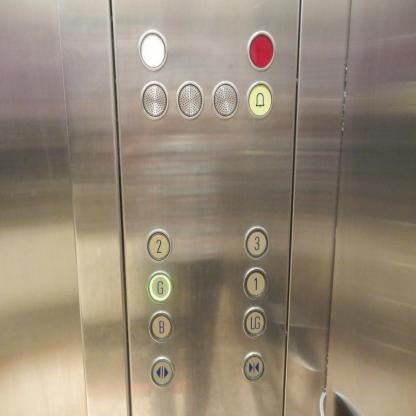1: (242, 264, 269, 301)
2: (144, 226, 172, 262)
3: (243, 224, 270, 260)
B: (148, 308, 174, 344)
G: (146, 267, 172, 304)
LG: (241, 305, 267, 340)
alarm: (245, 79, 274, 119)
close: (240, 348, 266, 383)
empty: (245, 28, 276, 70), (138, 28, 168, 71)
open: (148, 354, 174, 388)
speaker: (209, 78, 238, 119), (175, 79, 204, 120), (140, 79, 168, 120)
